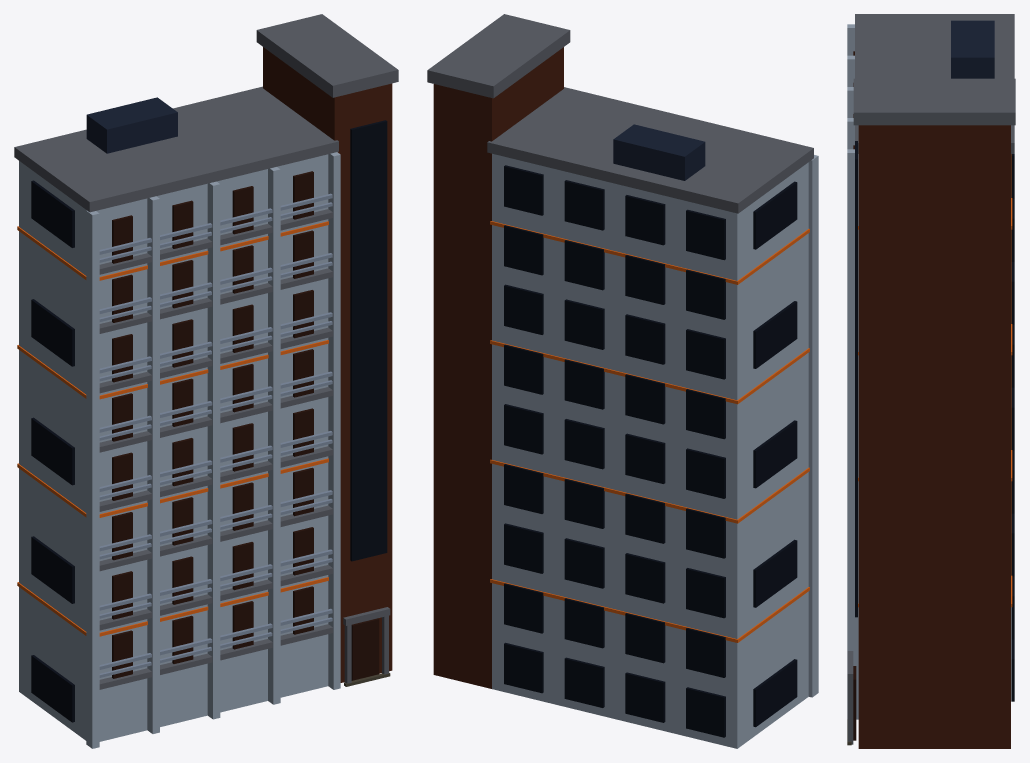
Rendered from tower3.obj.
The picture shows the model from 3 angles, left to right: view 1: azimuth 30°, elevation 25°; view 2: azimuth 150°, elevation 25°; view 3: azimuth 270°, elevation 25°; orthographic projection. The views are drawn at different scales.
Parts seen in each view (by area): view 1: body, gallery-piers, flat-doors, roof, gallery-rails, tower-glazing, galleries, lift-tower, windows, tower-cap, window-lights, roof-plant (+2 smaller); view 2: body, windows, lift-tower, roof, tower-cap, gallery-piers, window-lights, roof-plant; view 3: lift-tower, roof, tower-cap, gallery-piers, roof-plant, windows, tower-glazing, window-lights, canopy-brackets.
Part boxes in pixels (x1,y1,x2,y2): body: [19, 154, 328, 741]; gallery-piers: [86, 152, 340, 748]; flat-doors: [112, 171, 313, 678]; roof: [14, 86, 338, 212]; gallery-rails: [99, 193, 332, 677]; tower-glazing: [350, 120, 387, 561]; galleries: [99, 209, 332, 689]; lift-tower: [263, 47, 392, 682]; windows: [31, 180, 74, 722]; tower-cap: [256, 14, 398, 97]; window-lights: [17, 221, 328, 636]; roof-plant: [86, 97, 177, 153]; body: [492, 153, 808, 748]; windows: [504, 165, 797, 737]; lift-tower: [433, 47, 563, 688]; roof: [487, 87, 813, 213]; tower-cap: [427, 14, 570, 98]; gallery-piers: [808, 155, 818, 697]; window-lights: [490, 221, 809, 642]; roof-plant: [613, 124, 705, 180]; lift-tower: [858, 125, 1010, 748]; roof: [855, 14, 1014, 153]; tower-cap: [853, 78, 1015, 125]; gallery-piers: [847, 24, 858, 719]; roof-plant: [951, 20, 994, 78]; windows: [1011, 154, 1014, 701]; tower-glazing: [855, 141, 857, 617]; window-lights: [858, 154, 1012, 607]; canopy-brackets: [847, 680, 853, 744].
Bounding box in the file's own units: 6.97 × 12.96 × 3.1.
